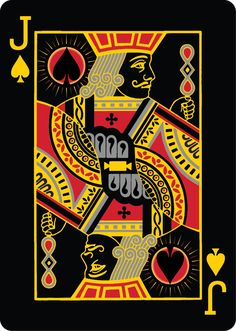jack of spades: (3, 1, 233, 328)
